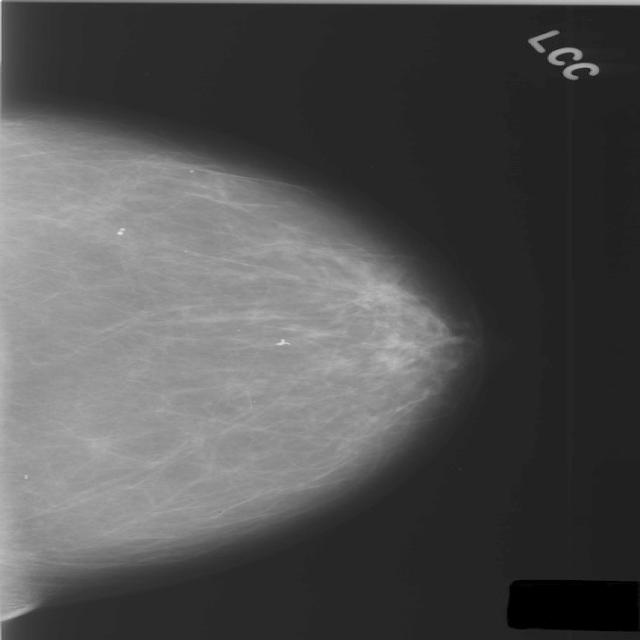tumour: (349, 272, 417, 314)
